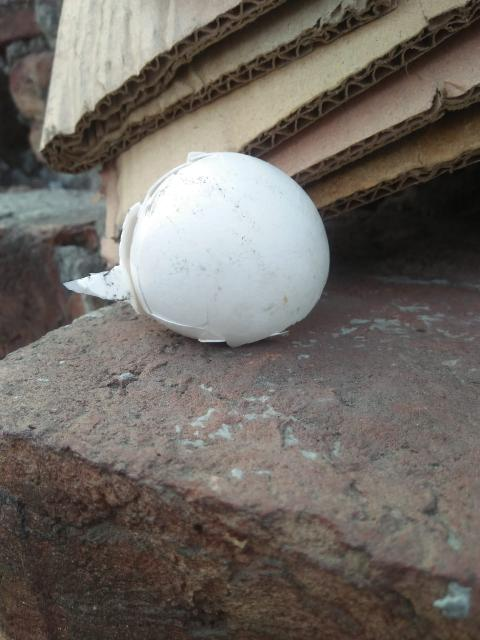Roto: (62, 149, 331, 348)
